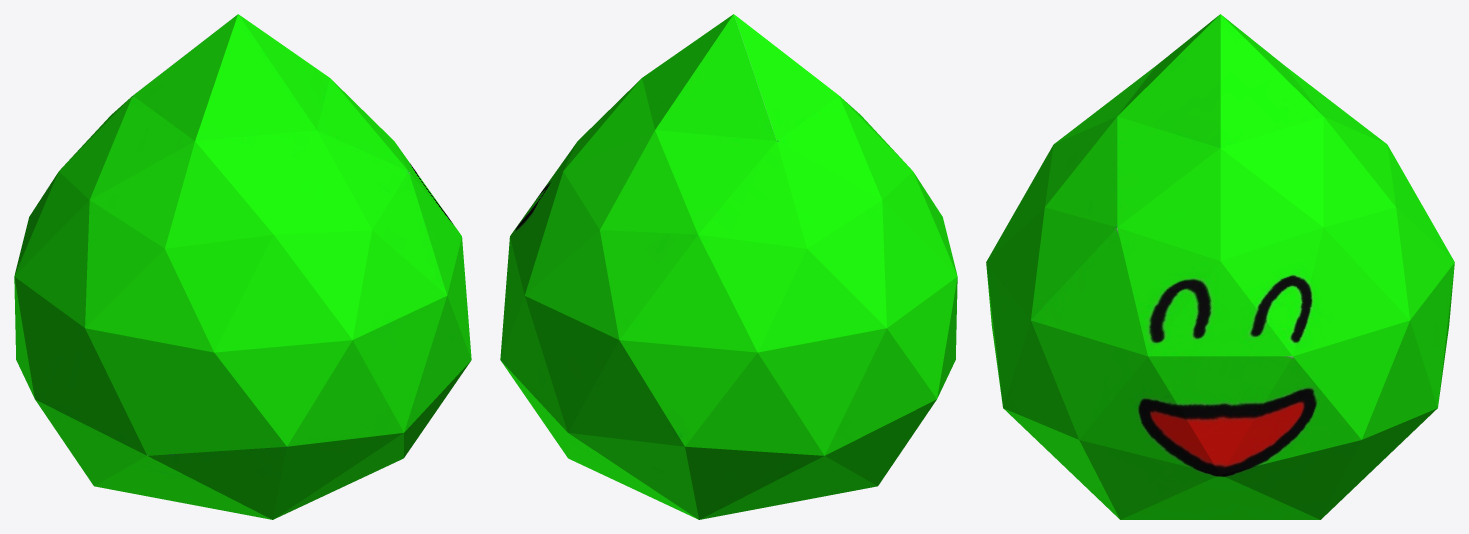
File: GreenSlime.fbx
3 views of the same model, side by side, from view 1: azimuth 30°, elevation 25°; view 2: azimuth 150°, elevation 25°; view 3: azimuth 270°, elevation 25° (orthographic). The views are drawn at different scales.
Parts seen in each view (by area): view 1: Icosphere; view 2: Icosphere; view 3: Icosphere.
Boxes of the visible parts, bbox=[...] form: Icosphere: bbox=[14, 14, 471, 519]; Icosphere: bbox=[500, 14, 957, 519]; Icosphere: bbox=[986, 14, 1454, 519].
Bounding box in the file's own units: 213 × 248 × 213.
